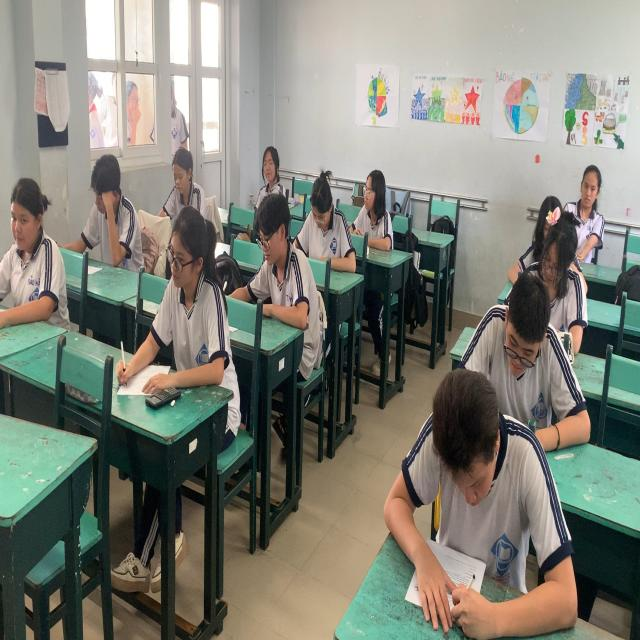not_cheating: (384, 364, 566, 618), (474, 272, 584, 448), (161, 206, 233, 388), (527, 192, 589, 346), (0, 171, 60, 330), (252, 188, 317, 332), (78, 150, 140, 265), (295, 175, 356, 281), (348, 150, 392, 250), (160, 140, 212, 220), (571, 168, 601, 268), (247, 140, 287, 199)
